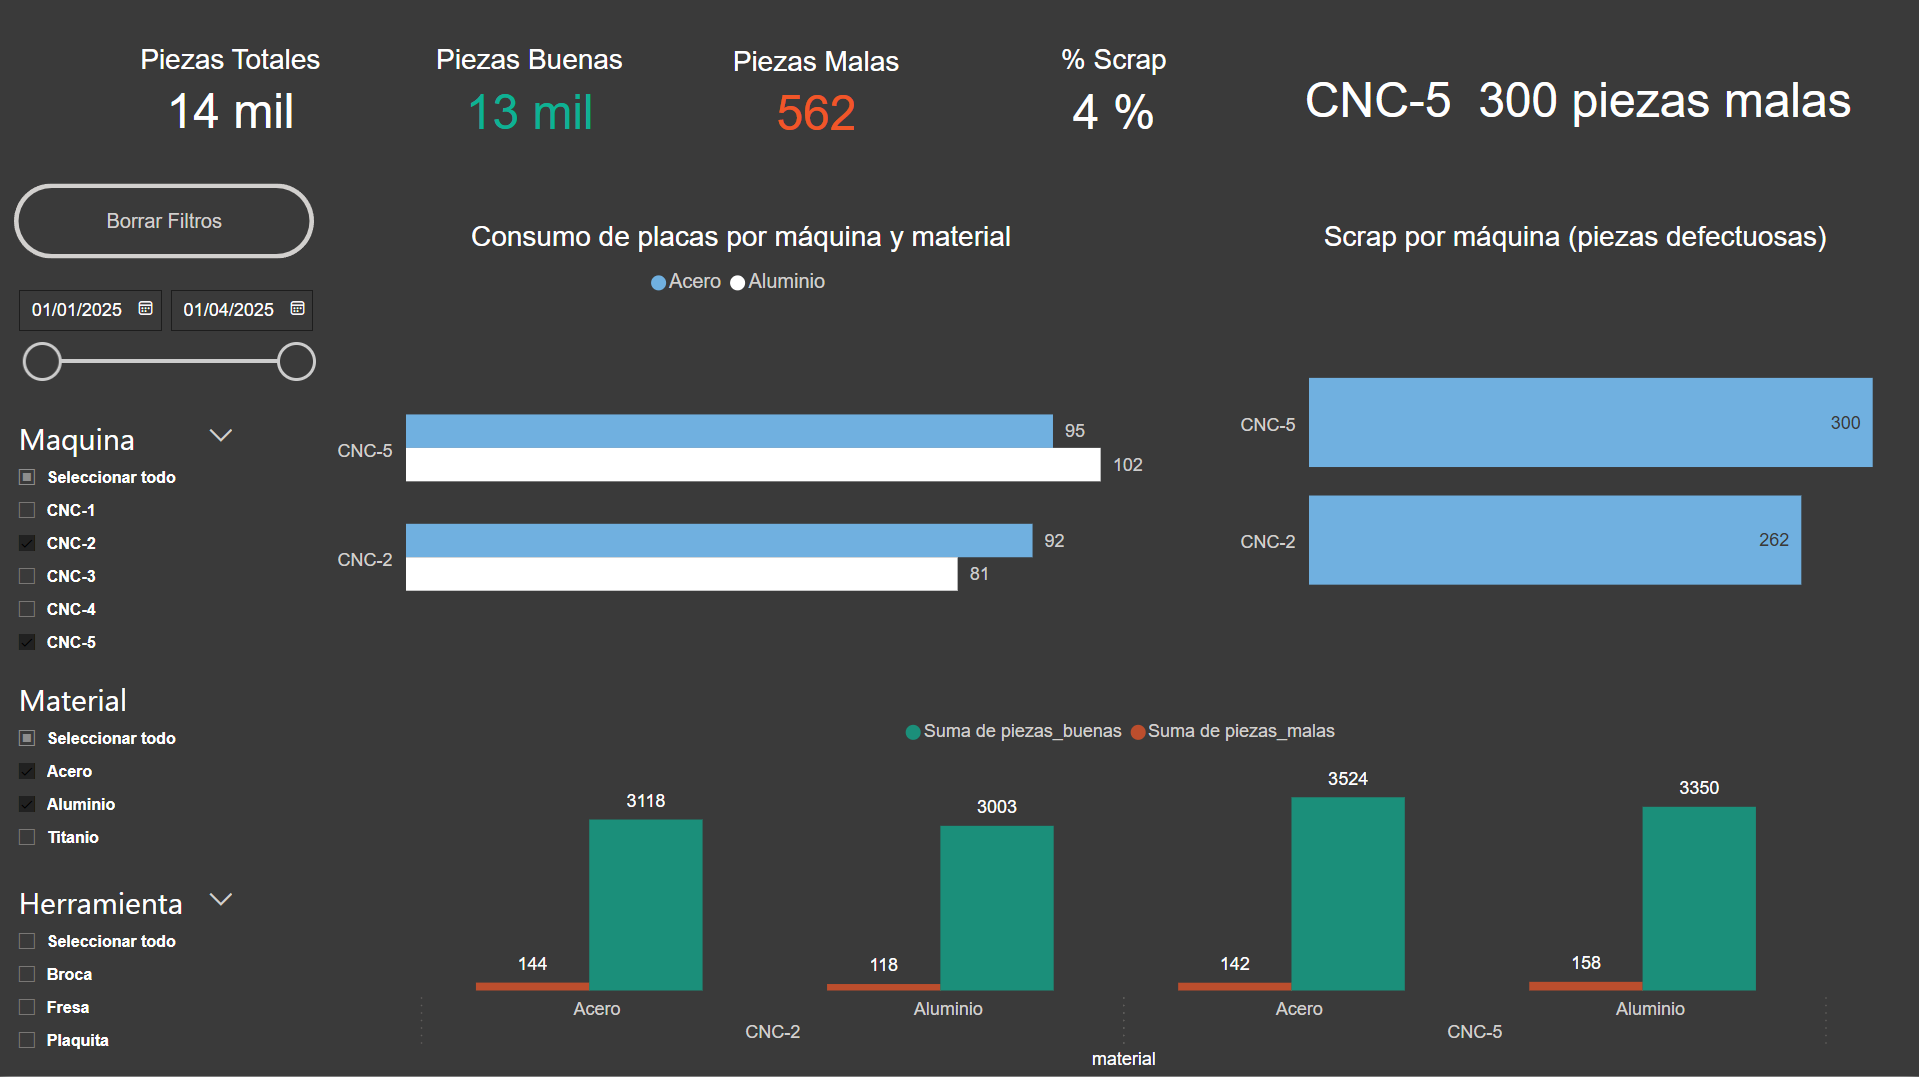

This screenshot's page, from the dashboard's own definition file:
{"tool":"powerbi","page":{"name":"Página 1","canvas":[1280,720],"ordinal":0},"visuals":[{"type":"clusteredColumnChart","fields":{"Category":["dim_maquinas.nombre_maquina","dim_piezas.material"],"Y":["Sum(fact_produccion.piezas_buenas)","Sum(fact_produccion.piezas_malas)"]},"box":[250.9,471.1,1028.8,248.8],"z":0},{"type":"slicer","title":"Tipo de herramienta","fields":{"Values":["dim_herramientas.tipo_herramienta"]},"box":[0,285.2,167.7,130.7],"z":1000},{"type":"slicer","title":"Nombre de maquina","fields":{"Values":["dim_maquinas.nombre_maquina"]},"box":[0,415.9,144,169.8],"z":2000},{"type":"slicer","fields":{"Values":["dim_piezas.material"]},"box":[0,585.7,136.3,134.2],"z":3000},{"type":"actionButton","box":[10,125,200,50],"z":4000},{"type":"card","title":"Piezas Totales","fields":{"Values":["fact_produccion.Piezas Totales"]},"box":[56.7,31.5,194.5,67.7],"z":5000},{"type":"card","title":"Piezas Buenas","fields":{"Values":["Sum(fact_produccion.piezas_buenas)"]},"box":[251,32,205,67.7],"z":6000},{"type":"card","title":"Piezas Malas","fields":{"Values":["Sum(fact_produccion.piezas_malas)"]},"box":[455.9,32.6,177.4,67],"z":7000},{"type":"card","title":"% Scrap","fields":{"Values":["fact_produccion.Scrap %"]},"box":[633.3,32,220.1,67.7],"z":8000},{"type":"barChart","title":"Scrap Por Maquina","fields":{"Category":["dim_maquinas.nombre_maquina"],"Y":["fact_produccion.Scrap por pieza"]},"box":[821.3,209.7,458.5,261.4],"z":9000},{"type":"clusteredBarChart","title":"Placas Usadas","fields":{"Y":["Sum(fact_produccion.placas_usadas)"],"Category":["dim_maquinas.nombre_maquina"],"Series":["dim_piezas.material"]},"box":[199.9,209.7,570.3,261.4],"z":10000},{"type":"card","fields":{"Values":["fact_produccion.Máquina con más scrap"]},"box":[853.4,32.9,398.4,67.8],"z":11000},{"type":"slicer","fields":{"Values":["fact_produccion.fecha"]},"box":[0,195,219.5,90.2],"z":11001}]}

Visuals, with their boxes in screenshot pixels (x1, y1, x2, y2), scaled from the page's 1280x720 canvas onto the 1919x1077 screenshot:
clusteredColumnChart - dim_maquinas.nombre_maquina x dim_piezas.material: l=376, t=705, r=1918, b=1076
"Tipo de herramienta" slicer: l=0, t=427, r=251, b=622
"Nombre de maquina" slicer: l=0, t=622, r=216, b=876
slicer - dim_piezas.material: l=0, t=876, r=204, b=1076
actionButton: l=15, t=187, r=315, b=262
"Piezas Totales" card: l=85, t=47, r=377, b=148
"Piezas Buenas" card: l=376, t=48, r=684, b=149
"Piezas Malas" card: l=683, t=49, r=949, b=149
"% Scrap" card: l=949, t=48, r=1279, b=149
"Scrap Por Maquina" barChart: l=1231, t=314, r=1918, b=705
"Placas Usadas" clusteredBarChart: l=300, t=314, r=1155, b=705
card - fact_produccion.Máquina con más scrap: l=1279, t=49, r=1877, b=151
slicer - fact_produccion.fecha: l=0, t=292, r=329, b=427
